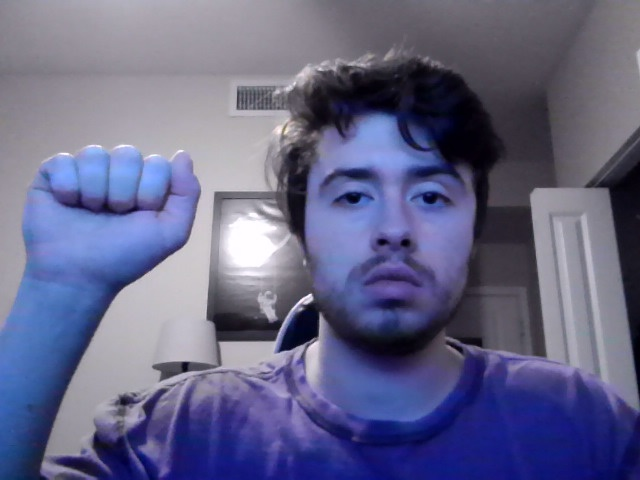a: (21, 143, 202, 292)
